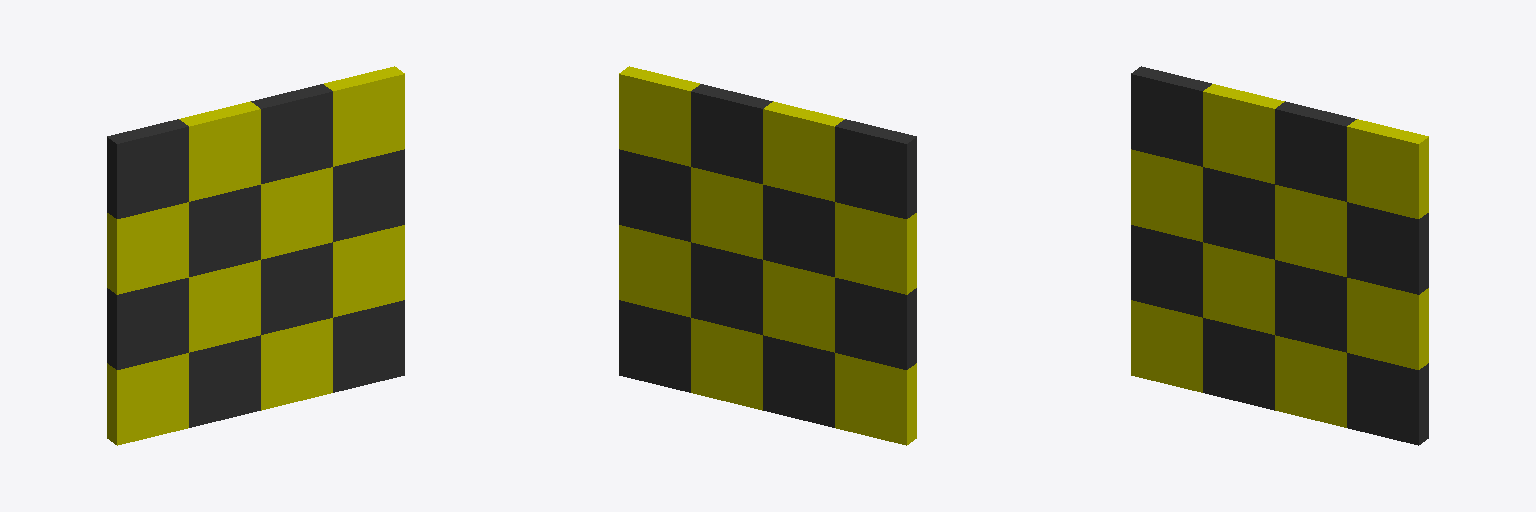
The model's file is Flipper.obj.
3 views of the same model, side by side, from view 1: azimuth 30°, elevation 25°; view 2: azimuth 150°, elevation 25°; view 3: azimuth 330°, elevation 25° (orthographic).
Size of the model in its own units: 8 by 8 by 0.5.